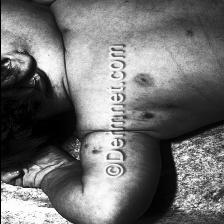Toxin: (80, 140, 104, 156), (138, 110, 154, 120), (162, 100, 178, 110), (184, 28, 195, 38), (16, 46, 28, 55), (61, 27, 71, 33)
